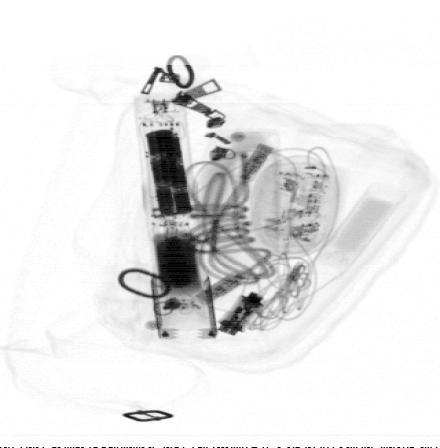Baton: (133, 92, 220, 341)
